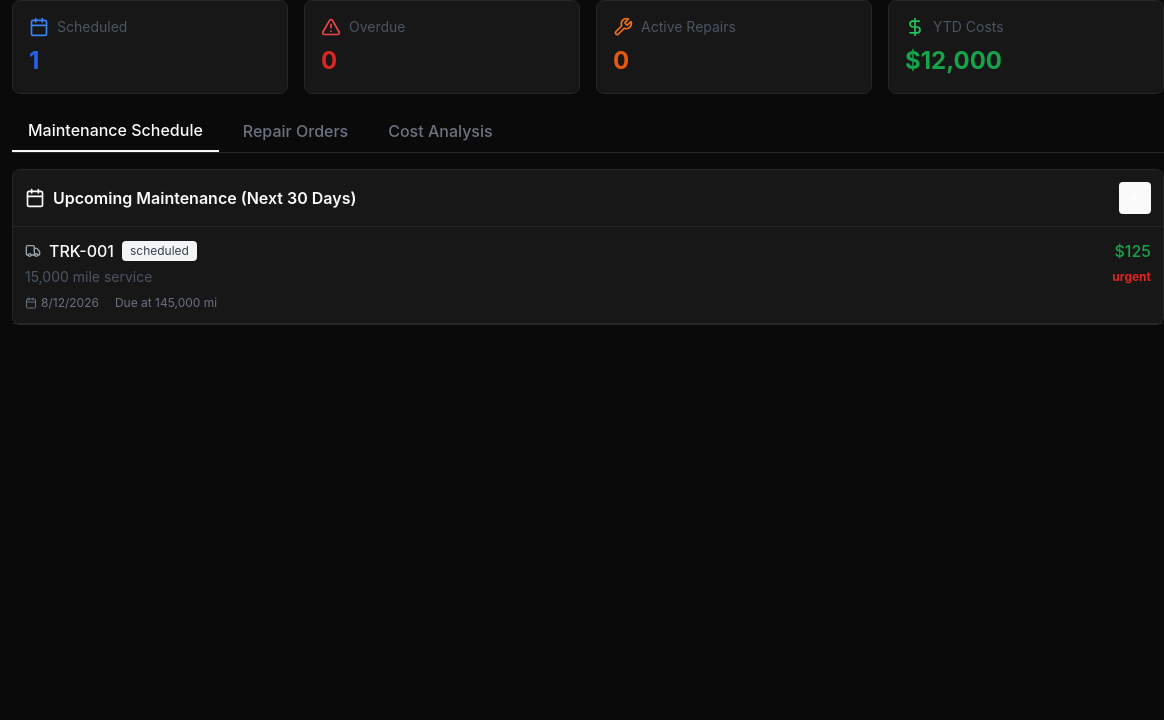
MaintenancePanel — the costs tab › shows the YTD total the server reported
This screenshot has width=1164, height=720.
Expected: the text "15,000 mile service" is shown, [25,268,152,285]
Click the button "Cost Analysis". click: click(440, 131)
box: [372,110,509,152]
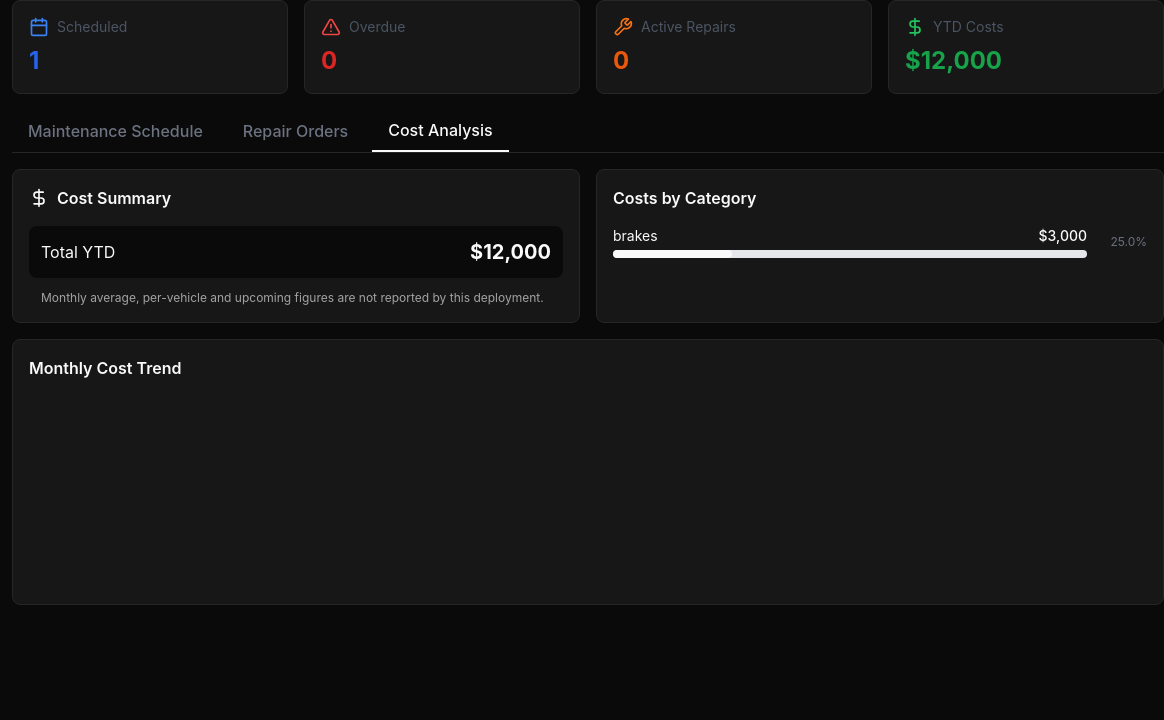
Expected: the text "$12,000" below "YTD Costs" is shown, [905,46,1002,75]
Expected: the text "Total YTD" is shown, [41,240,115,264]
